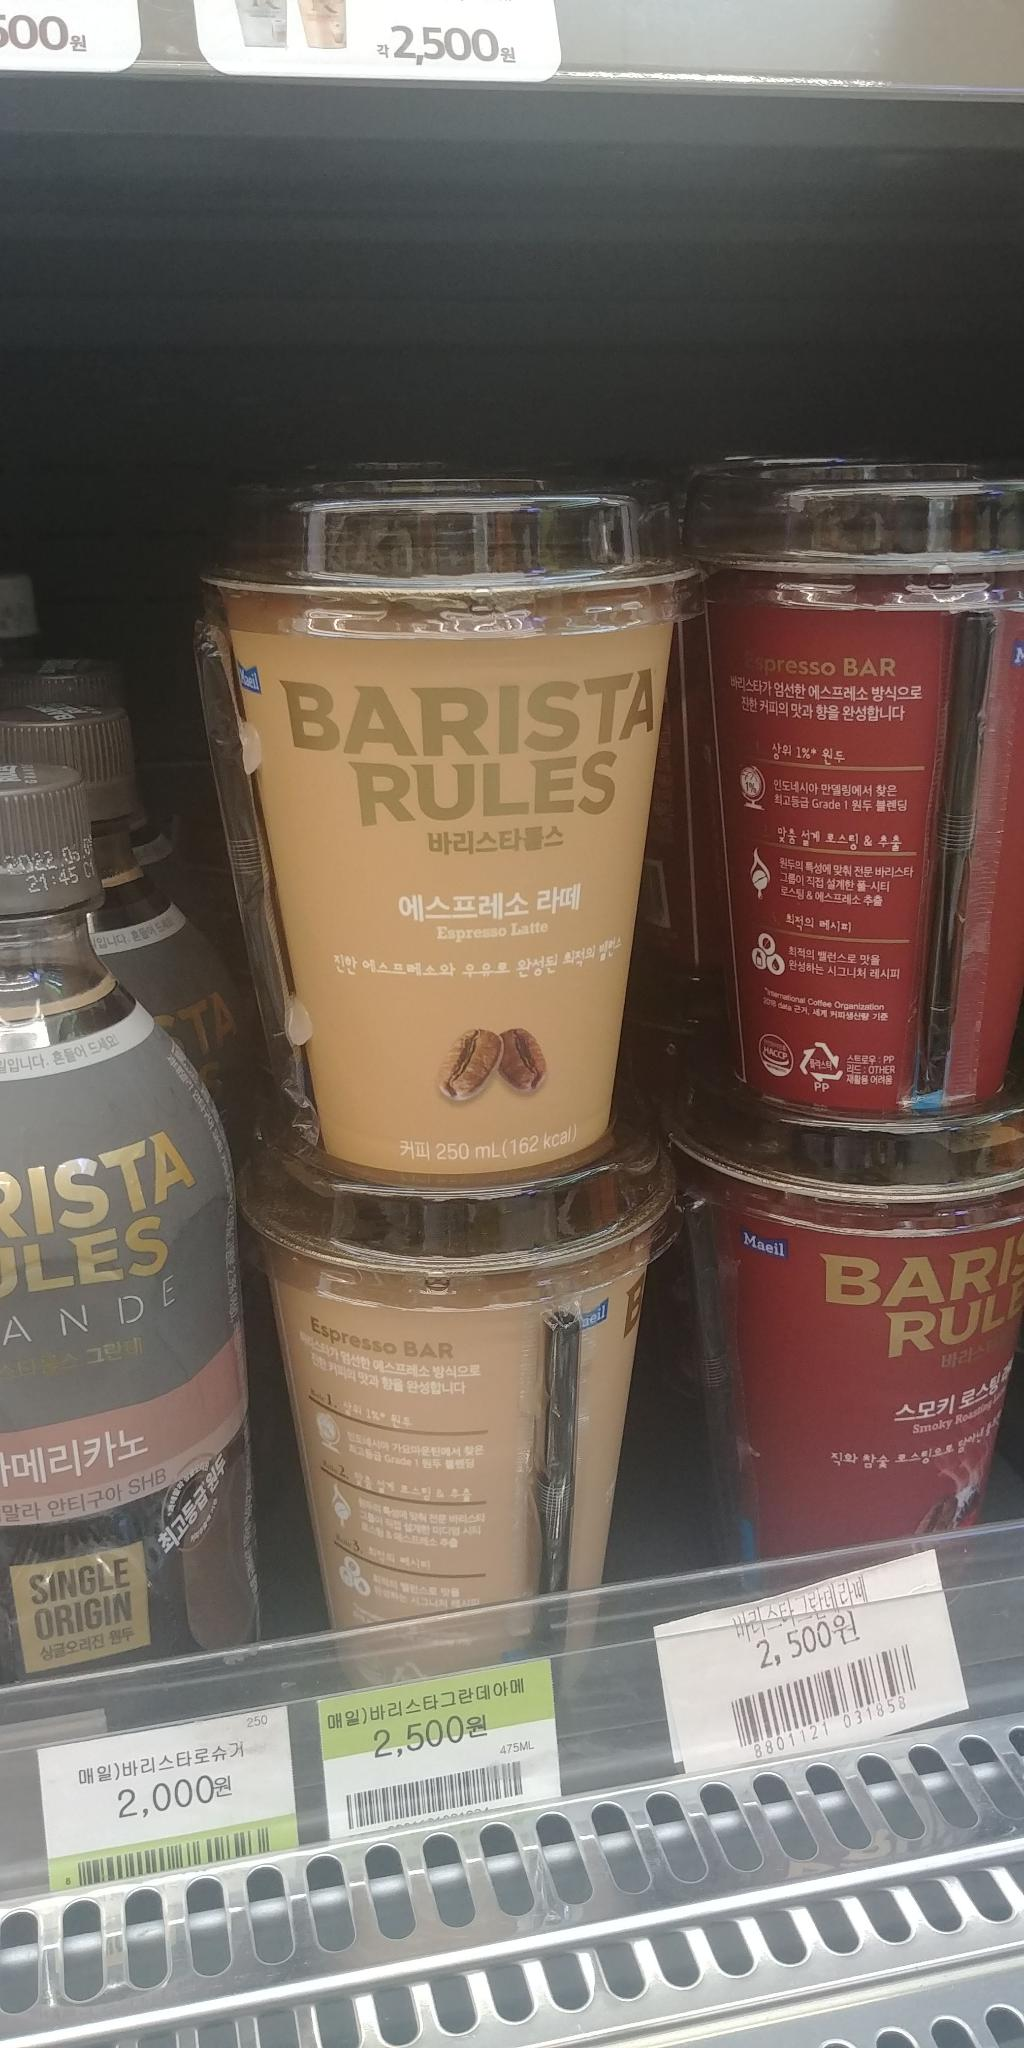baristarules_espressolatte: (193, 440, 711, 1206), (252, 1118, 657, 1711)
